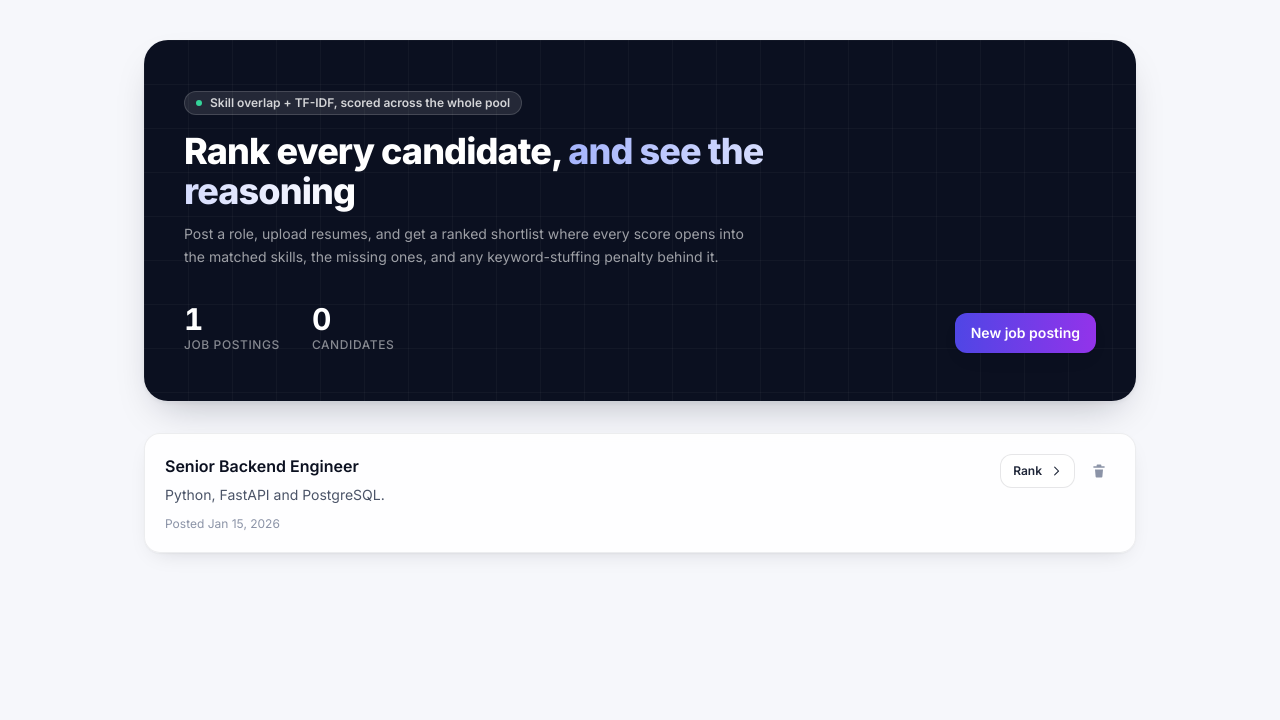
Test: JobsPage › deleting › takes two clicks and warns that the ranking goes too
Expected: the link "Senior Backend Engineer" is shown, [165, 456, 359, 476]
What coordinates should you click on to do the following:
click the button named "Delete Senior Backend Engineer"
I would click on:
 (1099, 470)
Its box is [1083, 454, 1115, 486].
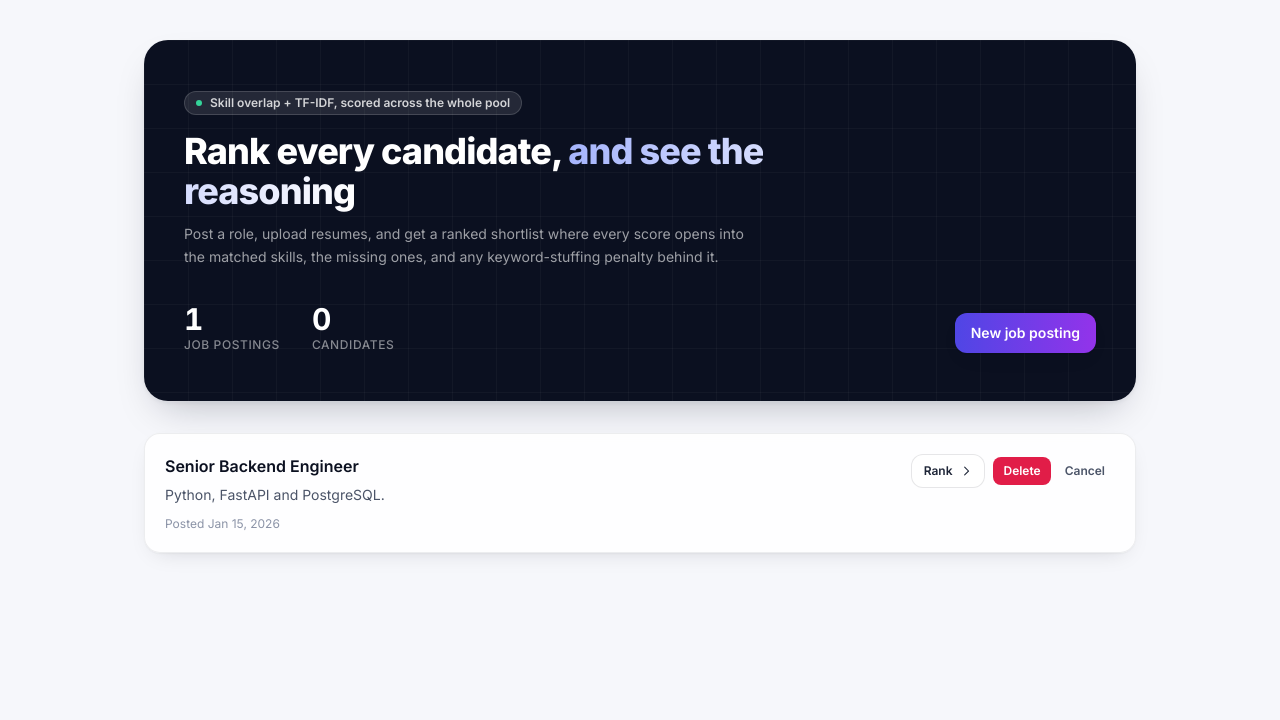
What coordinates should you click on to do the following:
click the button "Delete"
I would click on:
 (1022, 470)
Its box is [994, 456, 1051, 484].
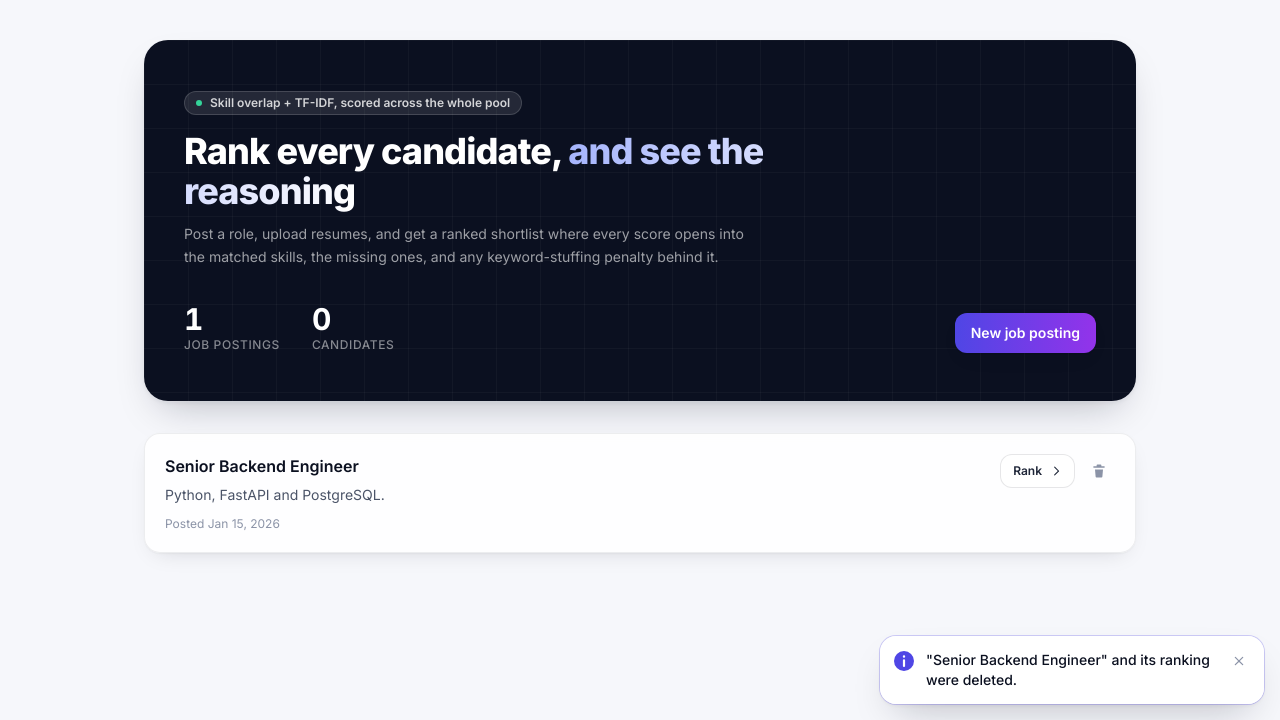
Result: the text "\"Senior Backend Engineer\" and its ranking were deleted." is shown at [926, 650, 1216, 690]
